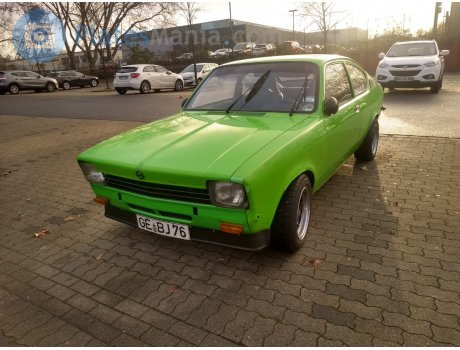License Plates: (133, 215, 187, 237)
